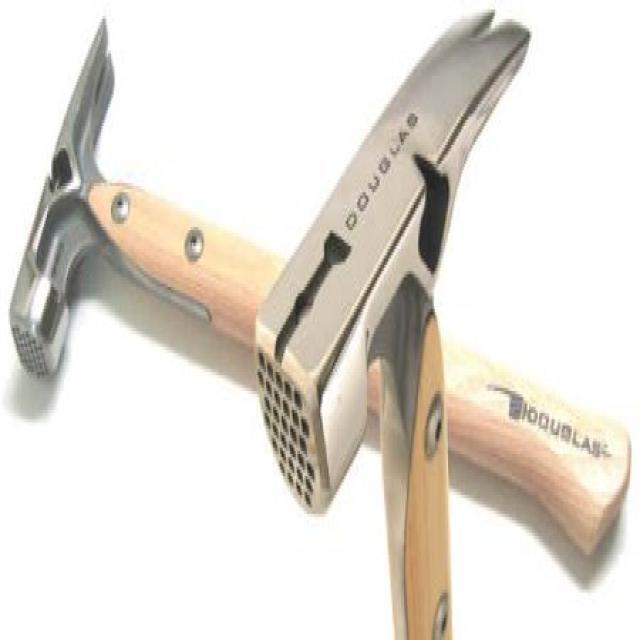hammer: (4, 0, 640, 561), (250, 2, 538, 640)
